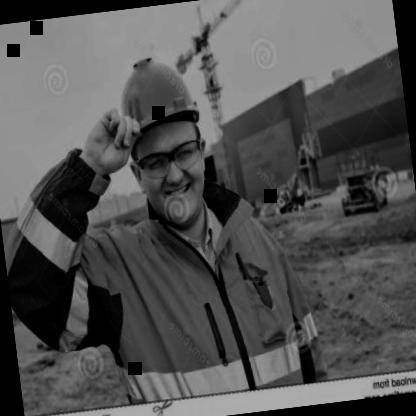helmet: (101, 41, 228, 237)
